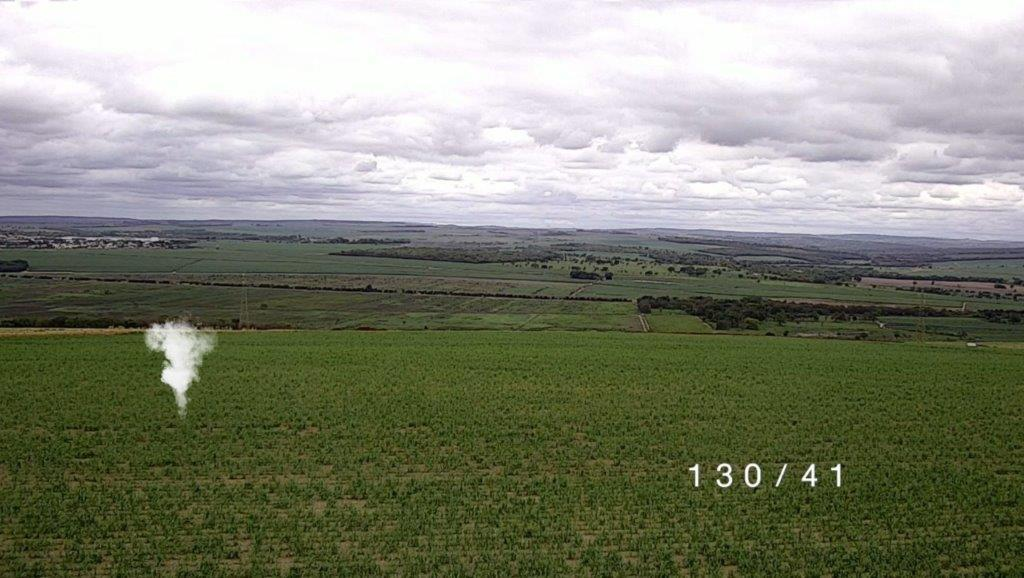smoke: (156, 327, 197, 399)
